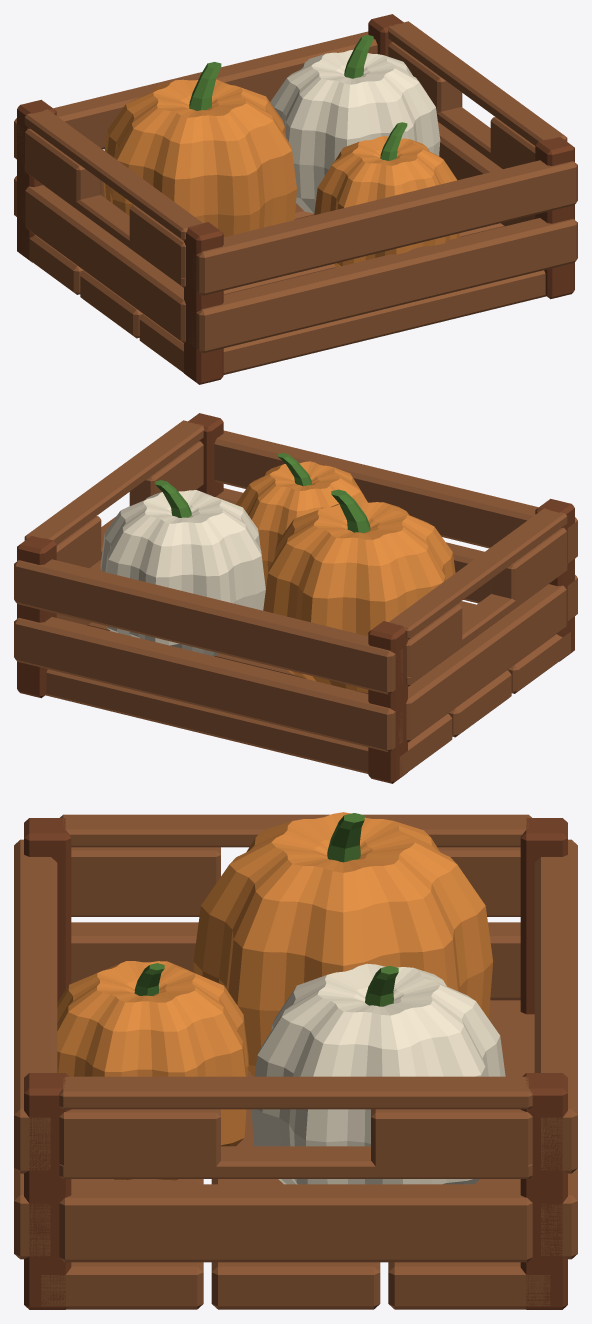
Rendered from HarvestCrate.glb.
3 renders of one model, top to bottom at view 1: azimuth 30°, elevation 25°; view 2: azimuth 150°, elevation 25°; view 3: azimuth 270°, elevation 25°, orthographic. The views are drawn at different scales.
Parts seen in each view (by area): view 1: HarvestCrate_Timber, HarvestCrate_ProducePrimary, HarvestCrate_ProduceSecondary, HarvestCrate_Frame, HarvestCrate_Stems; view 2: HarvestCrate_Timber, HarvestCrate_ProducePrimary, HarvestCrate_ProduceSecondary, HarvestCrate_Frame, HarvestCrate_Stems; view 3: HarvestCrate_Timber, HarvestCrate_ProducePrimary, HarvestCrate_ProduceSecondary, HarvestCrate_Frame, HarvestCrate_Stems.
Boxes of the visible parts, box(x1,y1,x2,y2) form: HarvestCrate_Timber: box(14, 21, 577, 374); HarvestCrate_ProducePrimary: box(103, 79, 459, 267); HarvestCrate_ProduceSecondary: box(270, 49, 440, 213); HarvestCrate_Frame: box(17, 14, 574, 384); HarvestCrate_Stems: box(189, 35, 407, 160); HarvestCrate_Timber: box(14, 420, 577, 777); HarvestCrate_ProducePrimary: box(236, 461, 455, 693); HarvestCrate_ProduceSecondary: box(100, 490, 265, 656); HarvestCrate_Frame: box(17, 413, 574, 783); HarvestCrate_Stems: box(155, 453, 370, 533); HarvestCrate_Timber: box(14, 814, 577, 1309); HarvestCrate_ProducePrimary: box(57, 812, 493, 1180); HarvestCrate_ProduceSecondary: box(251, 963, 505, 1184); HarvestCrate_Frame: box(24, 818, 567, 1309); HarvestCrate_Stems: box(134, 813, 398, 1006).
Size of the model in its own units: 0.841 by 0.4362 by 0.715.
